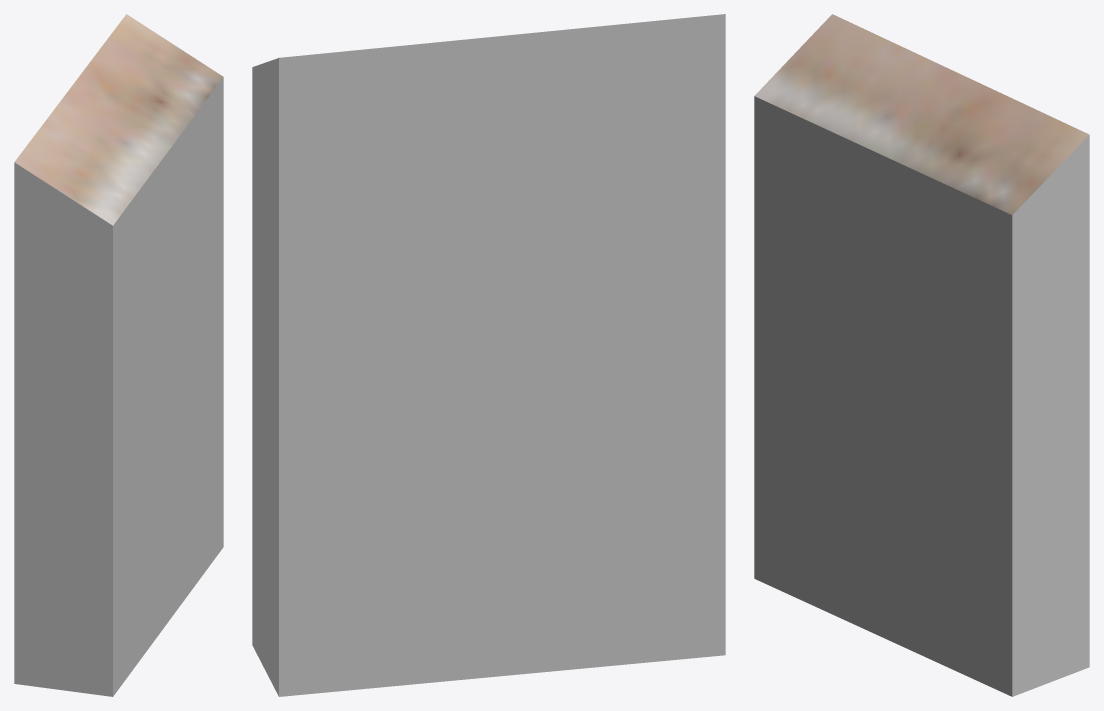
The model's file is DEBW_0010007THXS.gltf.
3 renders of one model, left to right at view 1: azimuth 30°, elevation 25°; view 2: azimuth 150°, elevation 25°; view 3: azimuth 270°, elevation 25°, orthographic. The views are drawn at different scales.
Parts seen in each view (by area): view 1: Z_UP; view 2: Z_UP; view 3: Z_UP.
Part boxes in pixels (<box>): Z_UP: <box>14,14,223,696</box>; Z_UP: <box>252,14,725,696</box>; Z_UP: <box>754,14,1089,696</box>.
Size of the model in its own units: 5 by 8.39 by 4.77.
Materials: 2 (1 with a texture image).
